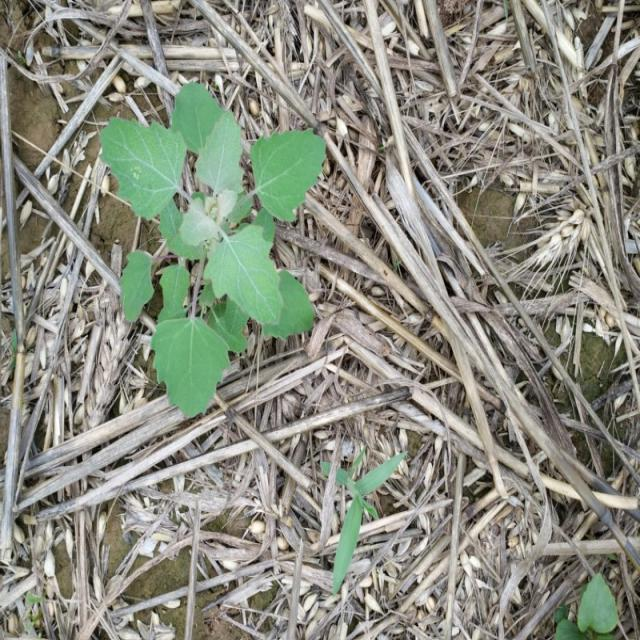goosefoots: (102, 82, 327, 415)
